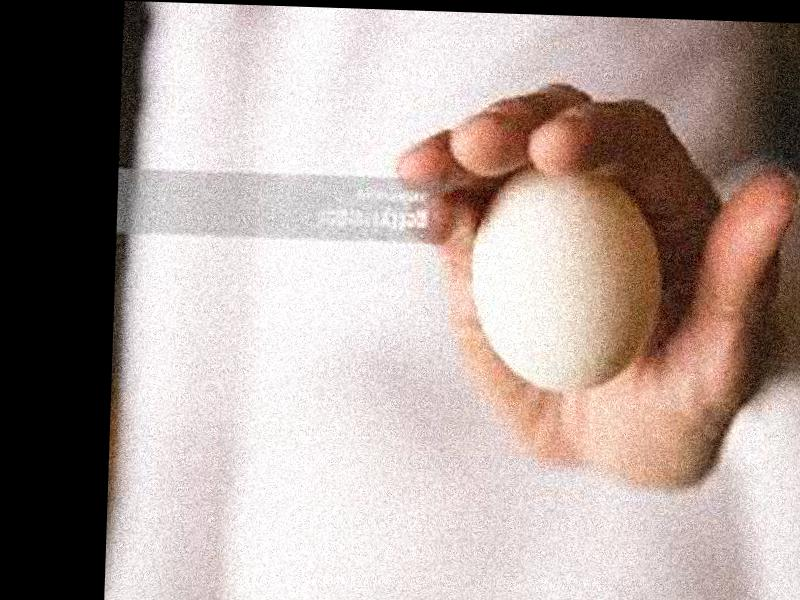Eggs: (468, 166, 668, 392)
